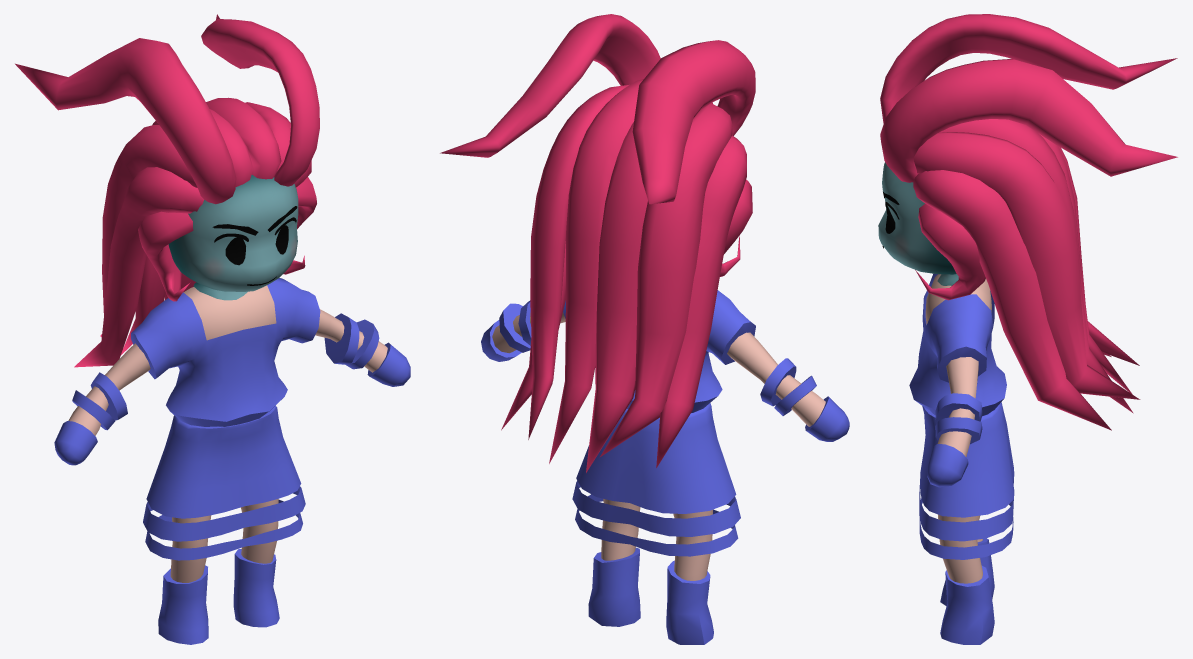
File: Npc_04.fbx
3 views of the same model, side by side, from view 1: azimuth 30°, elevation 25°; view 2: azimuth 150°, elevation 25°; view 3: azimuth 270°, elevation 25° (orthographic). The views are drawn at different scales.
Visible parts, largest first — view 1: Base_Swirls.001, NurbsPath.008, Head, Body; view 2: NurbsPath.008, Base_Swirls.001, Body; view 3: NurbsPath.008, Base_Swirls.001, Head, Body.
Part boxes in pixels (box(x1,y1,x2,y2)): Base_Swirls.001: box(54, 278, 410, 644); NurbsPath.008: box(15, 14, 319, 367); Head: box(168, 175, 298, 300); Body: box(68, 285, 387, 582); NurbsPath.008: box(440, 14, 755, 472); Base_Swirls.001: box(481, 290, 849, 644); Body: box(492, 312, 825, 580); NurbsPath.008: box(880, 14, 1177, 430); Base_Swirls.001: box(909, 273, 1014, 644); Head: box(878, 162, 958, 285); Body: box(925, 274, 991, 583).
Size of the model in its own units: 277 by 436 by 205.
